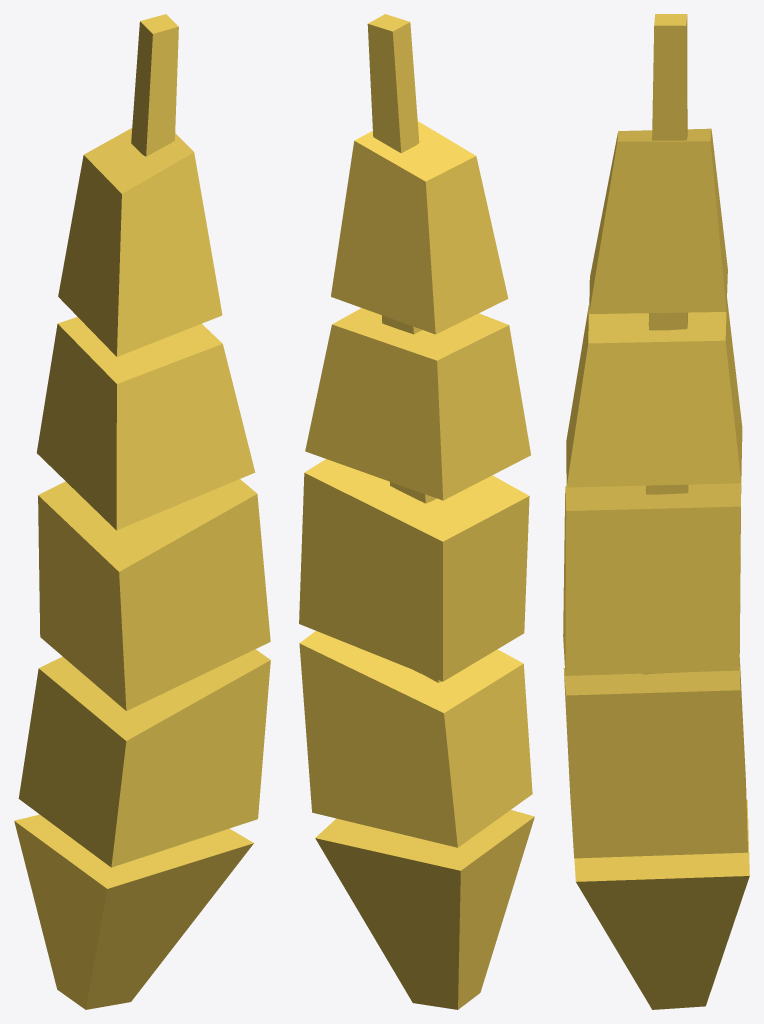
Rendered from Wheat-FX.fbx.
The picture shows the model from 3 angles, left to right: view 1: azimuth 30°, elevation 25°; view 2: azimuth 150°, elevation 25°; view 3: azimuth 270°, elevation 25°; orthographic projection. The views are drawn at different scales.
Visible parts, largest first — view 1: Wheat; view 2: Wheat; view 3: Wheat.
Boxes of the visible parts, x1=… form: Wheat: x1=14, y1=14, x2=270, y2=1009; Wheat: x1=299, y1=14, x2=534, y2=1009; Wheat: x1=563, y1=14, x2=749, y2=1009.
Size of the model in its own units: 10.46 by 56.6 by 9.48.
